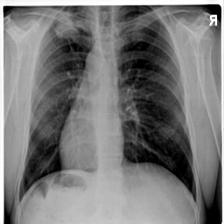tuberculosis: (16, 4, 202, 224)
